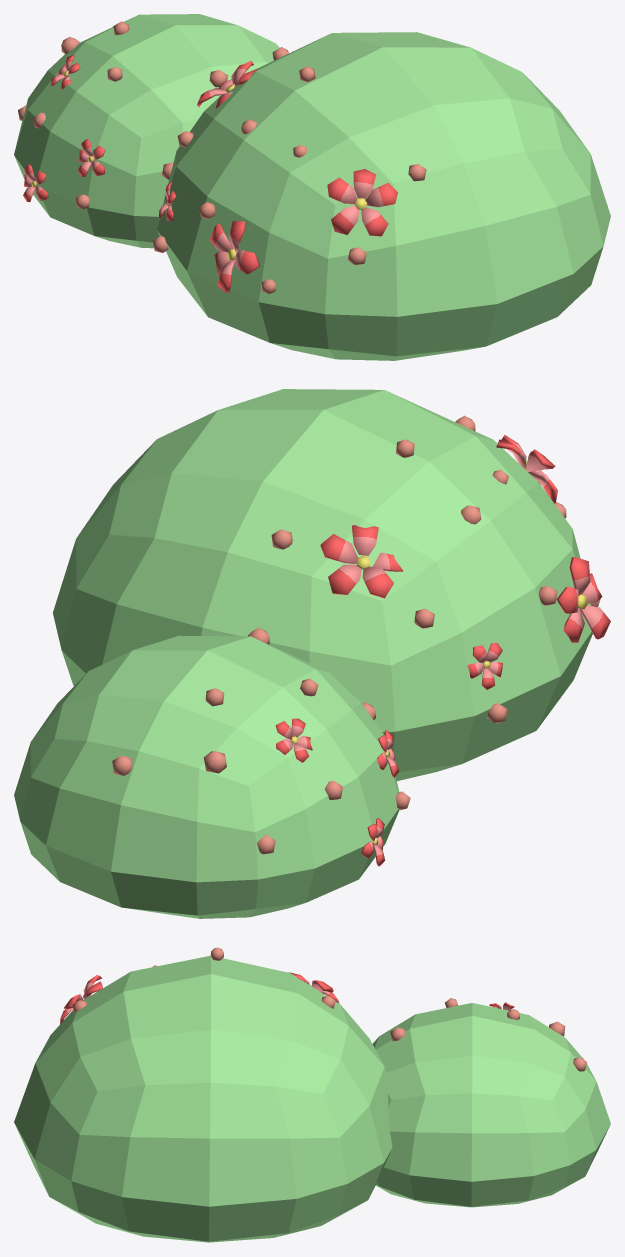
Rendered from New Spring_Obstacle.fbx.
3 renders of one model, top to bottom at view 1: azimuth 30°, elevation 25°; view 2: azimuth 150°, elevation 25°; view 3: azimuth 270°, elevation 25°, orthographic. The views are drawn at different scales.
Parts seen in each view (by area): view 1: Tree.186; view 2: Tree.186; view 3: Tree.186.
Part boxes in pixels (left/top/right/bottom): Tree.186: left=14, top=14, right=610, bottom=360; Tree.186: left=14, top=389, right=610, bottom=918; Tree.186: left=14, top=947, right=610, bottom=1242.
Size of the model in its own units: 620 by 379 by 933.
